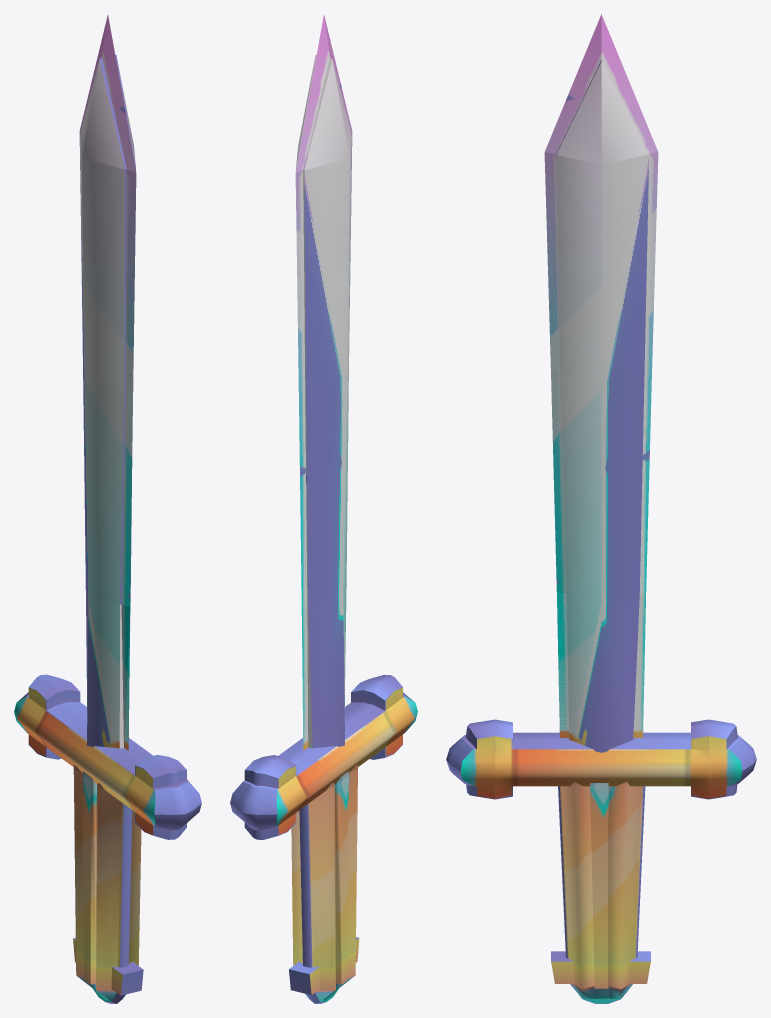
File: Pickup sword.fbx
3 renders of one model, left to right at view 1: azimuth 30°, elevation 25°; view 2: azimuth 150°, elevation 25°; view 3: azimuth 270°, elevation 25°, orthographic.
Parts seen in each view (by area): view 1: Pickup_Sword; view 2: Pickup_Sword; view 3: Pickup_Sword.
Part boxes in pixels (x1,y1,x2,y2): Pickup_Sword: [14, 15, 201, 1003]; Pickup_Sword: [230, 15, 417, 1003]; Pickup_Sword: [446, 14, 756, 1003].
Bounding box in the file's own units: 0.9662 × 16.17 × 4.6.
1 material, 1 textured.
